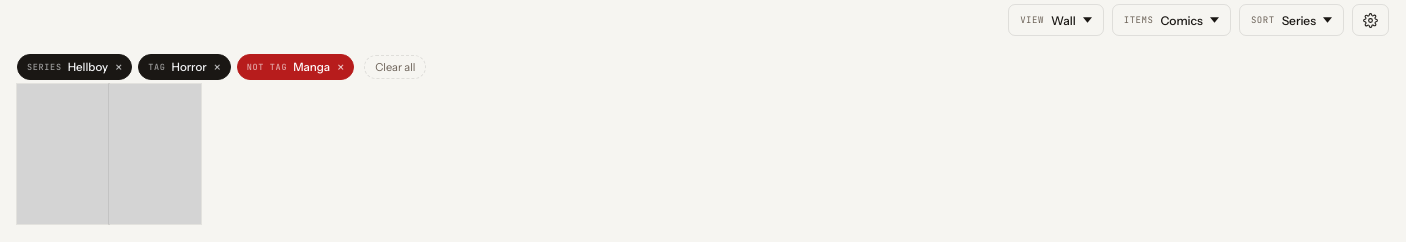
Test: Books/BooksPage — the gate, the pinning, the modals › a filtered browse shows the count and one chip per filter — a number facet by its label — and Clear all keeps the catalog params
The width and height of the screenshot is (1406, 242).
Expected: the button "Series Hellboy ×" is shown, [17, 54, 132, 80]
Expected: the button "Tag Horror ×" is shown, [138, 54, 231, 80]
Step 1. Click the button "Clear all" → click(395, 67), box [364, 55, 426, 79]
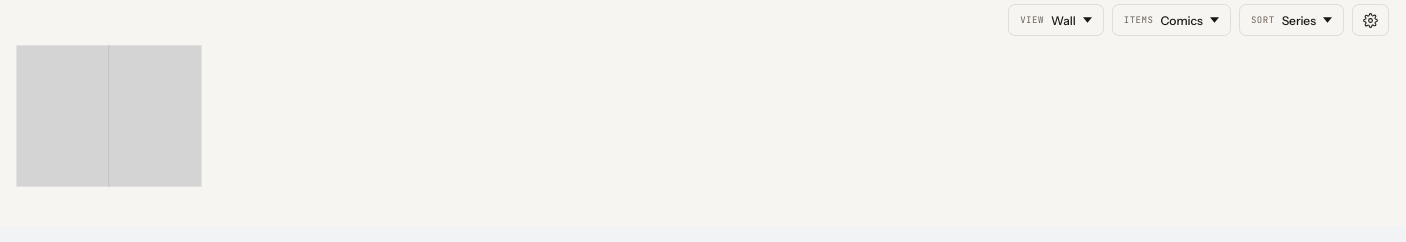
Result: the element with class "bx-chiprow" is gone
